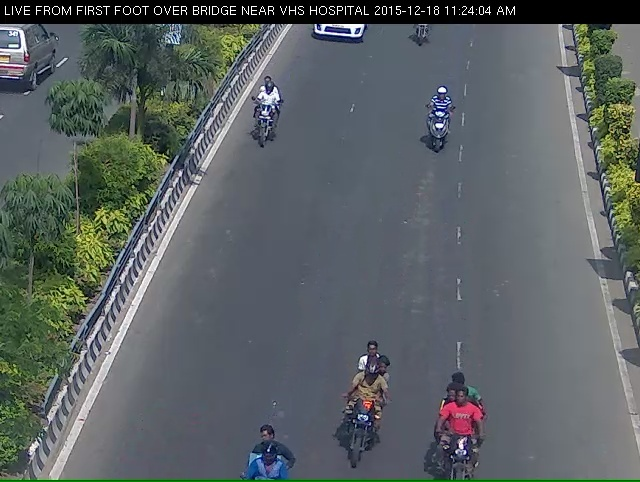Bus: (332, 379, 383, 475)
Person: (419, 91, 461, 172), (241, 84, 277, 160)
